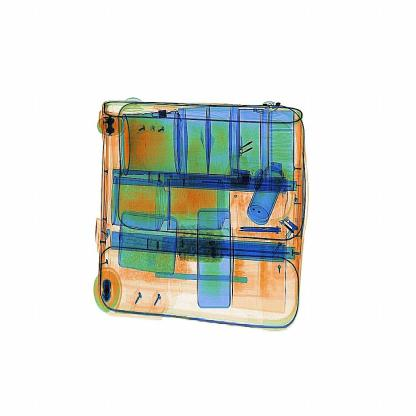wrench: (235, 220, 288, 240)
